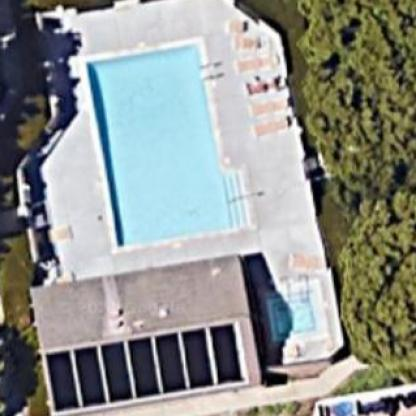pool: (68, 35, 276, 254)
